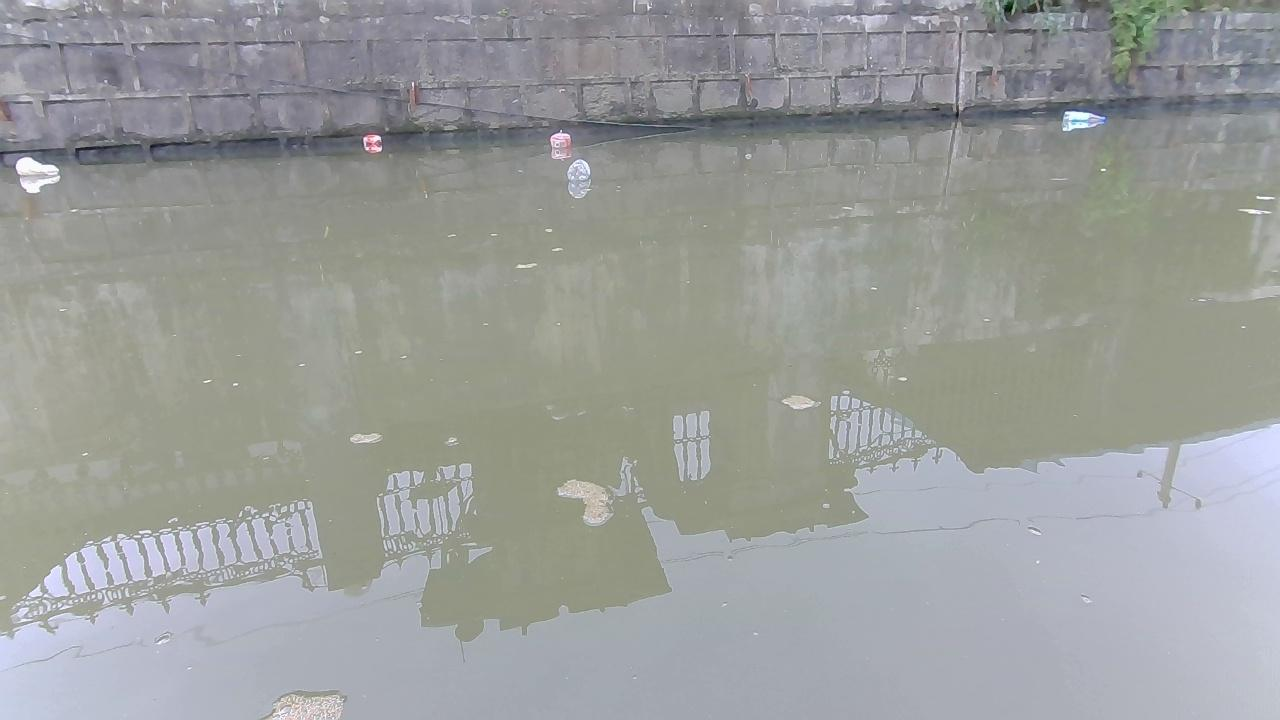bottle: (1061, 108, 1112, 129), (13, 156, 61, 178), (567, 158, 587, 182), (360, 132, 386, 148), (550, 131, 568, 148)
